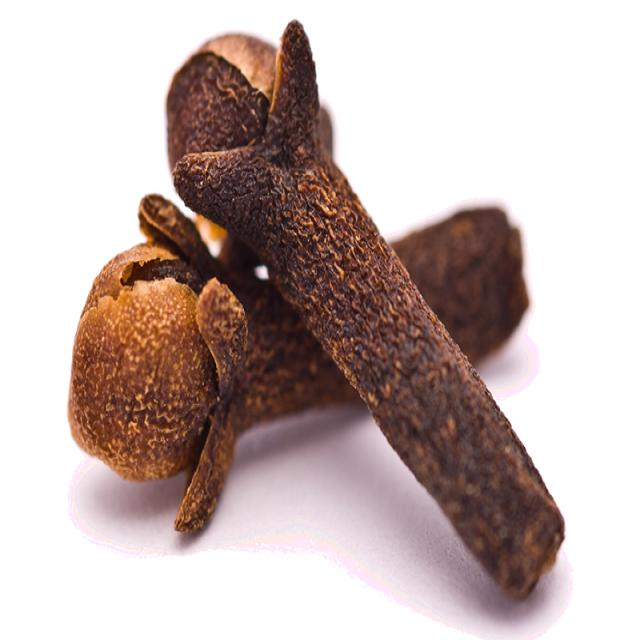clove: (70, 22, 564, 596)
